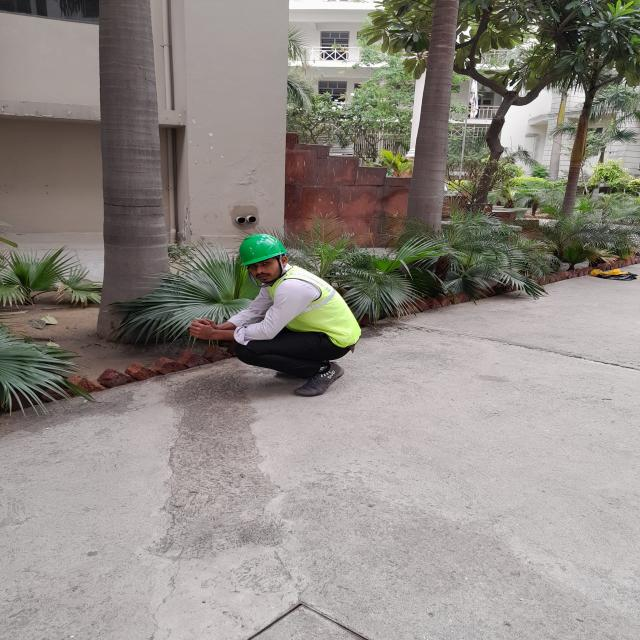safe: (231, 234, 362, 396)
